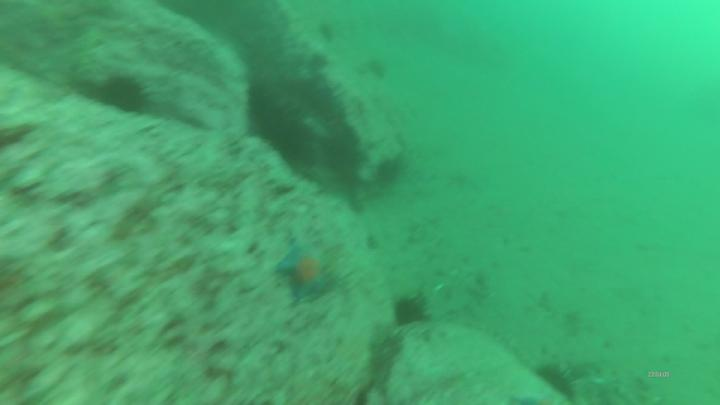echinus: (95, 68, 147, 113), (266, 119, 311, 164), (537, 361, 579, 405), (245, 85, 284, 125), (394, 294, 435, 331), (376, 156, 403, 185), (366, 54, 388, 80), (308, 51, 332, 74), (316, 21, 337, 45)
starfish: (275, 239, 335, 304)
